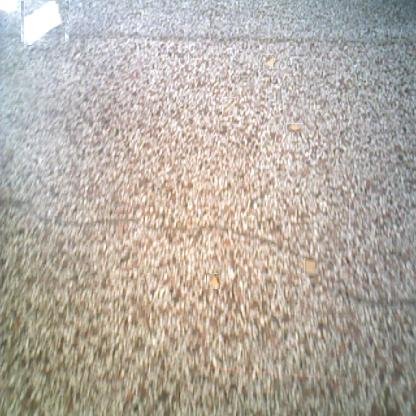dirty: (22, 0, 67, 43), (222, 97, 237, 114), (304, 258, 317, 276), (206, 273, 220, 289), (262, 54, 274, 69), (286, 123, 303, 132)
